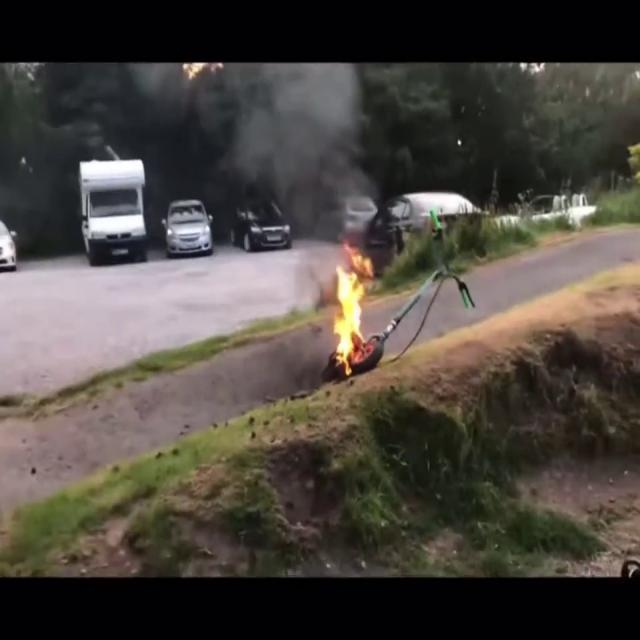Fire: (326, 246, 376, 370)
Smoke: (230, 64, 382, 232)
